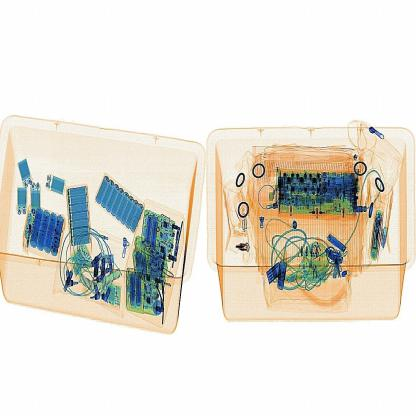wrench: (232, 240, 256, 256)
